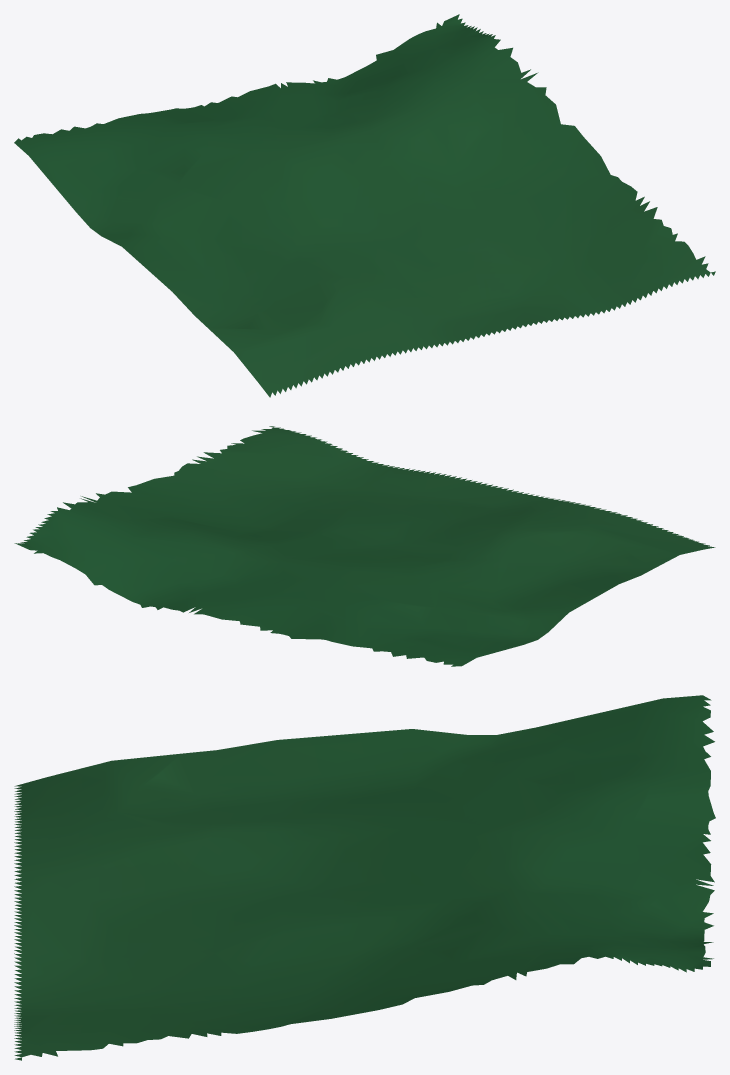
The model's file is payo_land_x2_y4_lod2.glb.
3 views of the same model, one above another, from view 1: azimuth 30°, elevation 25°; view 2: azimuth 150°, elevation 25°; view 3: azimuth 270°, elevation 25° (orthographic). The views are drawn at different scales.
Parts seen in each view (by area): view 1: payo_land_x2_y4; view 2: payo_land_x2_y4; view 3: payo_land_x2_y4.
Boxes of the visible parts, bbox=[...] form: payo_land_x2_y4: bbox=[14, 14, 715, 397]; payo_land_x2_y4: bbox=[14, 426, 715, 666]; payo_land_x2_y4: bbox=[14, 695, 715, 1060].
Size of the model in its own units: 262 by 49.67 by 260.
